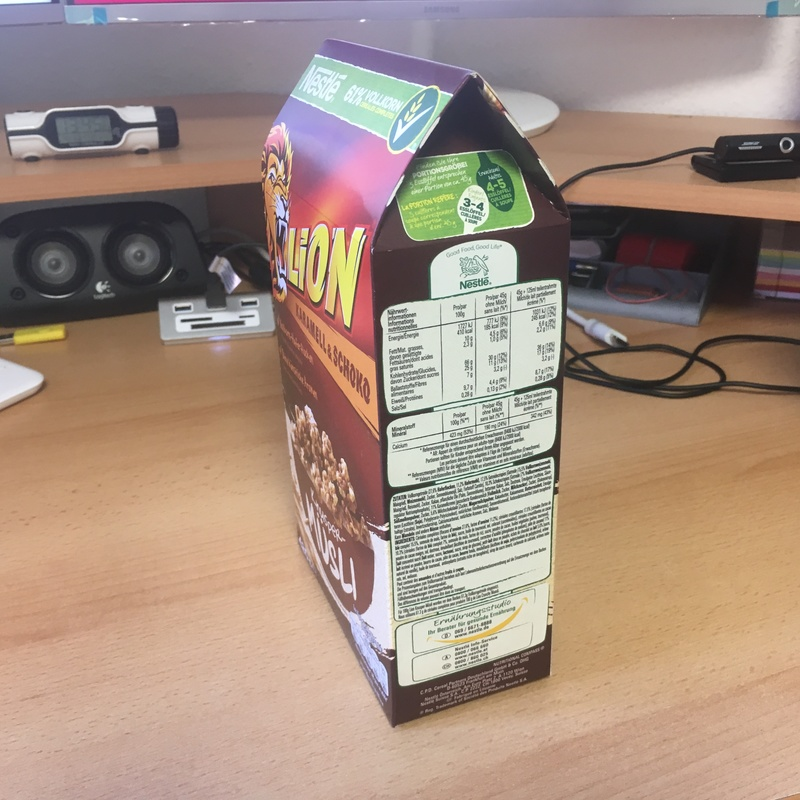cereals: (255, 40, 570, 729)
